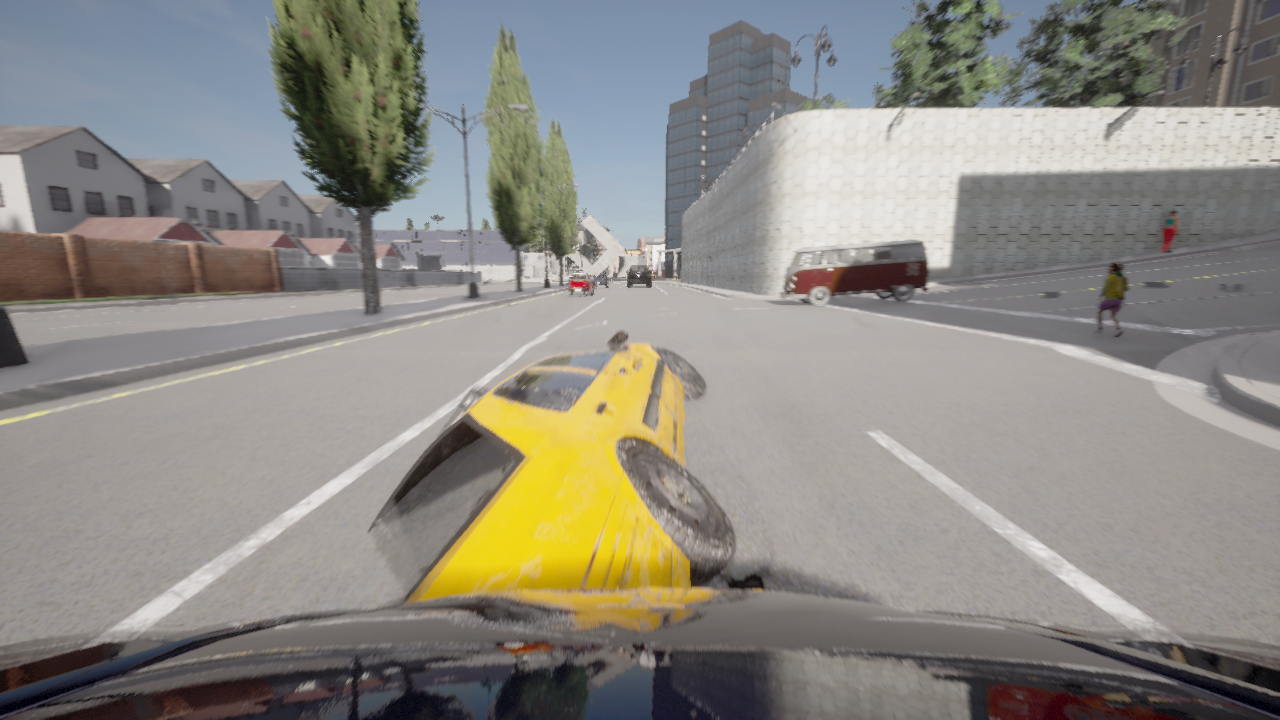cyclist: (0, 588, 1279, 719), (367, 330, 735, 604), (779, 239, 928, 306), (569, 272, 592, 295), (627, 266, 651, 286), (590, 272, 610, 288)
pedestrian: (1094, 262, 1128, 337), (1161, 211, 1177, 251)
